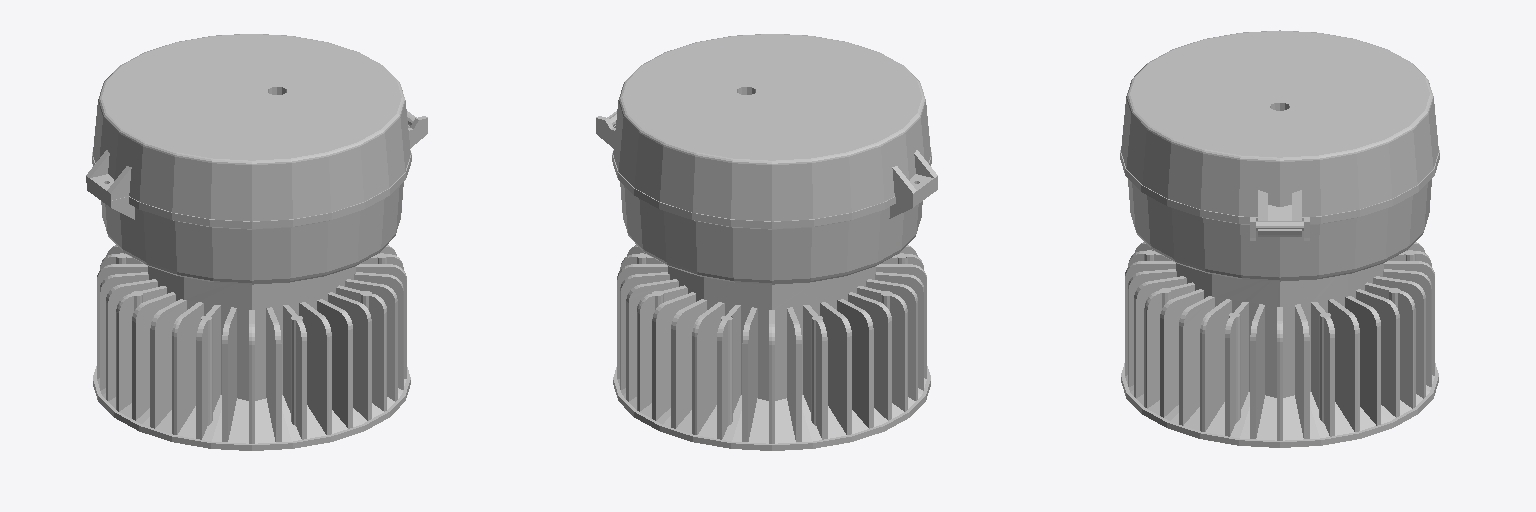
File: sample2.obj
3 renders of one model, left to right at view 1: azimuth 30°, elevation 25°; view 2: azimuth 150°, elevation 25°; view 3: azimuth 270°, elevation 25°, orthographic.
Visible parts, largest first — view 1: sample; view 2: sample; view 3: sample.
Boxes of the visible parts, box(x1,y1,x2,y2) form: sample: box(86, 34, 427, 450); sample: box(596, 34, 937, 450); sample: box(1120, 30, 1439, 447).
Size of the model in its own units: 11.57 by 11.2 by 10.16.